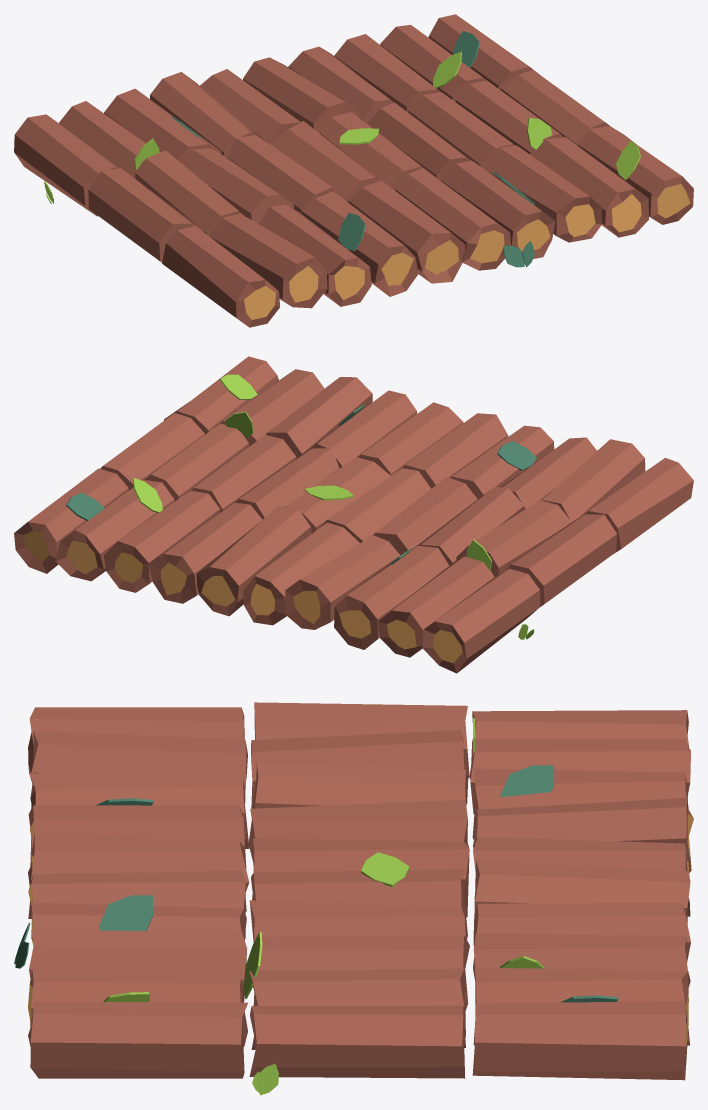
Rendered from logs_on_ground.fbx.
The picture shows the model from 3 angles, top to bottom: view 1: azimuth 30°, elevation 25°; view 2: azimuth 150°, elevation 25°; view 3: azimuth 270°, elevation 25°; orthographic projection. The views are drawn at different scales.
Visible parts, largest first — view 1: Cylinder.044; view 2: Cylinder.044; view 3: Cylinder.044.
Boxes of the visible parts, x1,y1,x2,y2 form: Cylinder.044: [14, 14, 693, 327]; Cylinder.044: [14, 356, 693, 673]; Cylinder.044: [14, 702, 693, 1095].
Size of the model in its own units: 539 by 73.9 by 451.
